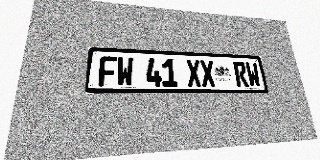1: (161, 58, 177, 87)
4: (146, 58, 162, 87)
F: (98, 56, 117, 86)
R: (233, 61, 249, 87)
W: (116, 57, 133, 86), (245, 62, 261, 87)
X: (199, 60, 216, 87), (186, 59, 202, 87)
